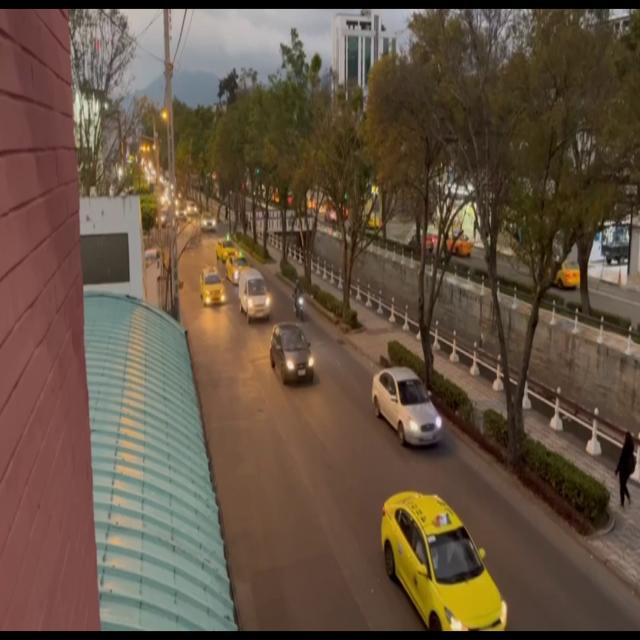MOTORCYCLE: (293, 278, 306, 320)
SED: (378, 491, 506, 633), (369, 361, 444, 452), (270, 322, 316, 385), (200, 267, 227, 307), (228, 253, 251, 290), (216, 236, 238, 263)
SUV: (237, 267, 270, 320)
